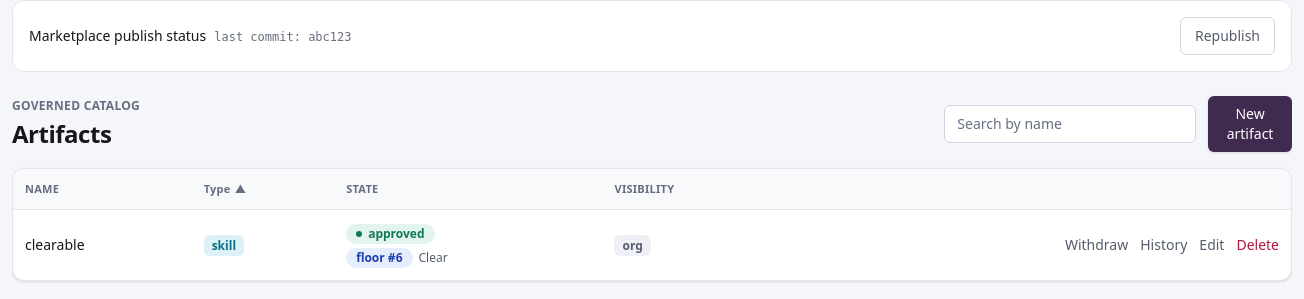
Test case: the artifact table row's Clear button removes the floor via a confirm + PUT with minRevision:0 and the row's own rowVersion
Check: the text "clearable" is shown, box [13,209,192,280]
Check: the text "floor #6" is shown, box [346,248,412,268]
Click the button with aria-label "Clear floor for clearable": {"x": 433, "y": 258} [418,250,448,266]
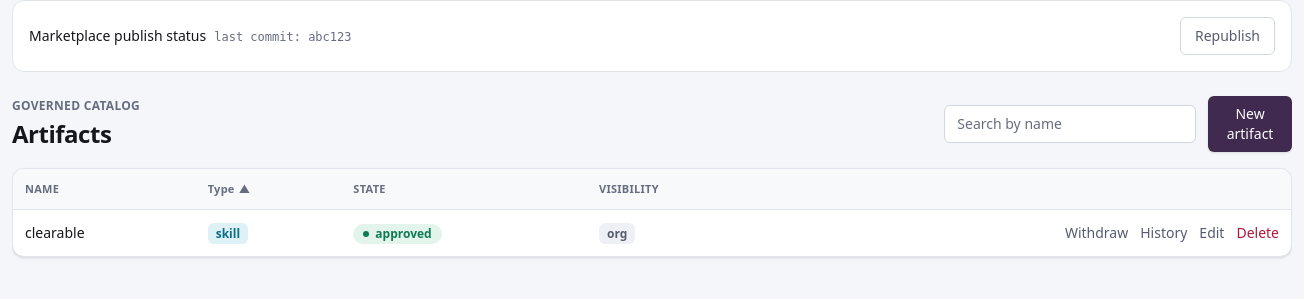
Check: the text "floor #6" is gone
